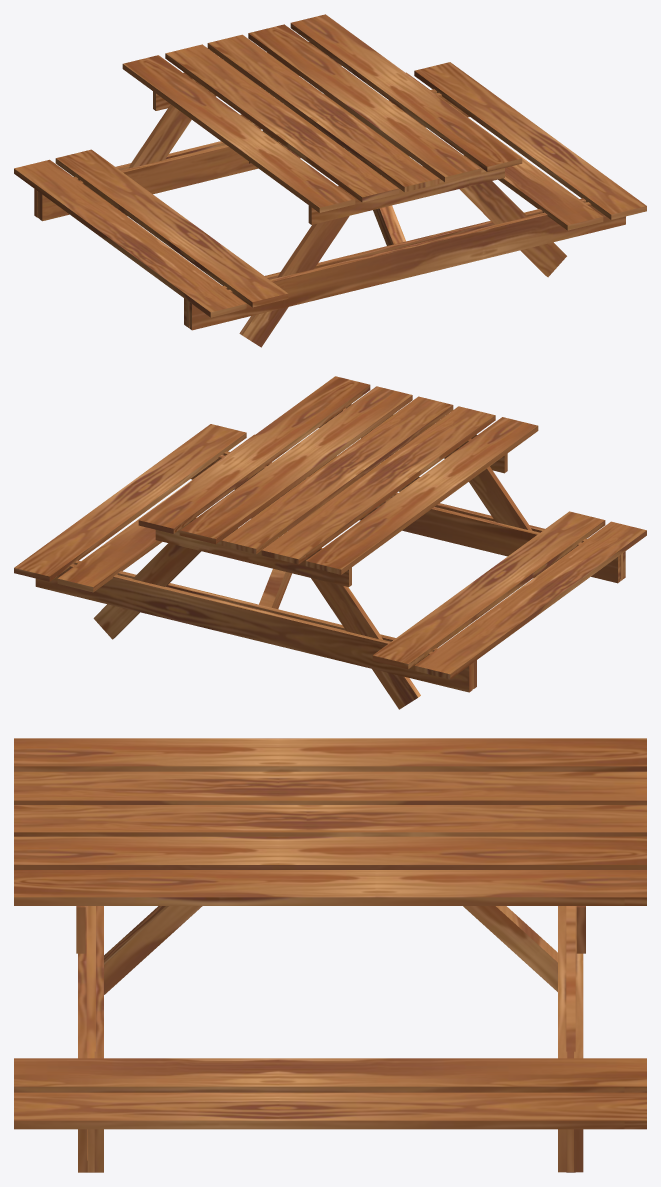
The model's file is mesa2.glb.
3 views of the same model, one above another, from view 1: azimuth 30°, elevation 25°; view 2: azimuth 150°, elevation 25°; view 3: azimuth 270°, elevation 25° (orthographic). The views are drawn at different scales.
Parts seen in each view (by area): view 1: Cube.001_1; view 2: Cube.001_1; view 3: Cube.001_1.
Boxes of the visible parts, x1,y1,x2,y2 form: Cube.001_1: (14,14,646,347); Cube.001_1: (14,376,646,709); Cube.001_1: (14,738,646,1172).
Bounding box in the file's own units: 7.78 × 2.52 × 6.08.
Materials: 1 (1 with a texture image).
